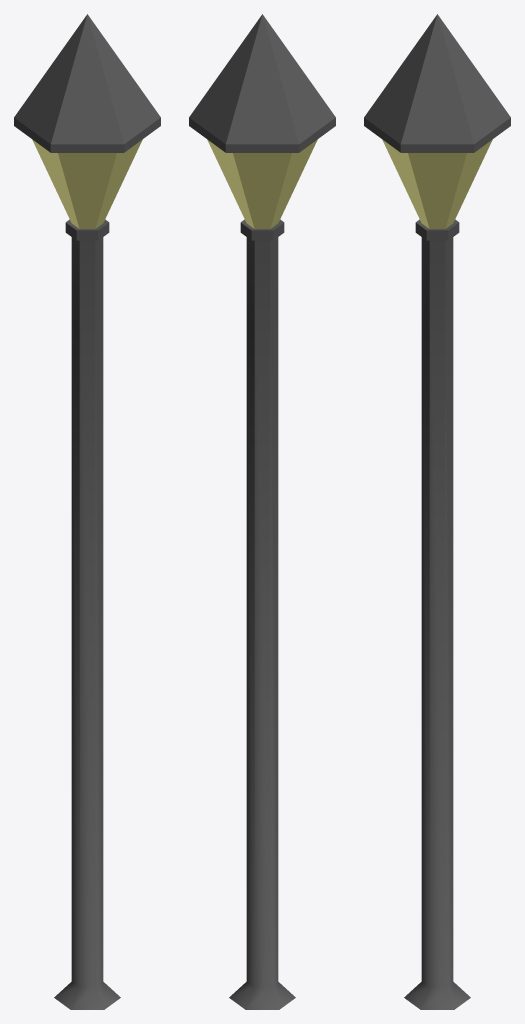
Rendered from street_lamp.fbx.
The picture shows the model from 3 angles, left to right: view 1: azimuth 30°, elevation 25°; view 2: azimuth 150°, elevation 25°; view 3: azimuth 270°, elevation 25°; orthographic projection.
Parts seen in each view (by area): view 1: Lamp; view 2: Lamp; view 3: Lamp.
Part boxes in pixels (x1,y1,x2,y2): Lamp: (14,14,160,1009); Lamp: (189,14,335,1009); Lamp: (364,14,510,1009).
Size of the model in its own units: 310 by 2643 by 358.
